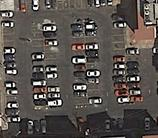parkingspot: (1, 10, 21, 124), (110, 14, 130, 104), (43, 24, 62, 107), (84, 22, 103, 105), (70, 24, 89, 106), (30, 25, 48, 108), (13, 0, 114, 12), (126, 48, 144, 103), (27, 119, 48, 134), (105, 118, 124, 132), (77, 117, 85, 132), (145, 117, 152, 131)
